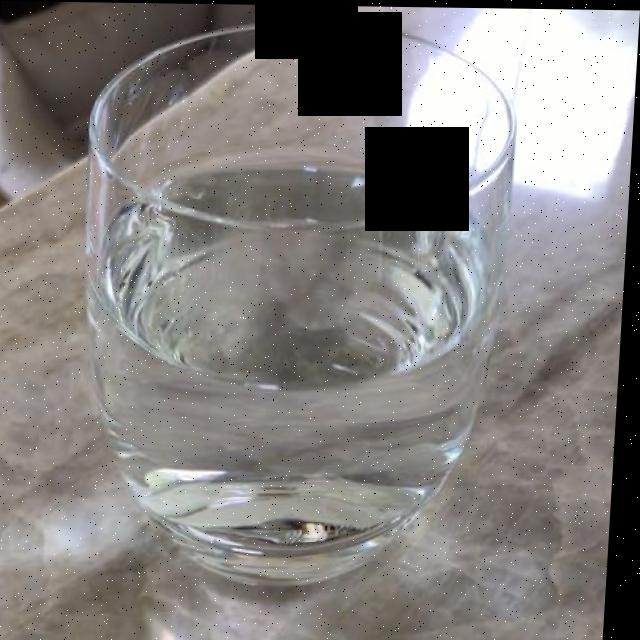water: (83, 152, 512, 567)
